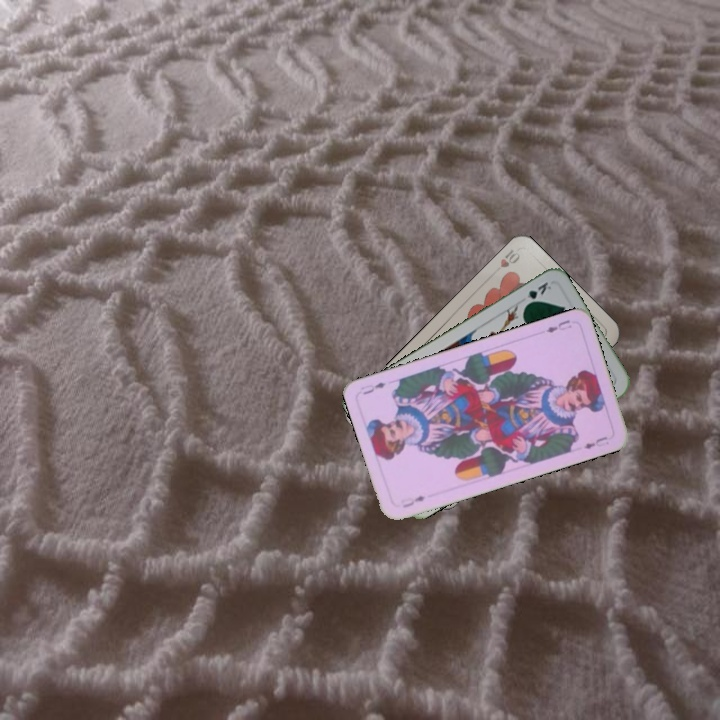EU: (542, 316, 574, 335), (396, 492, 428, 510)
GK: (520, 278, 554, 309)
H10: (488, 245, 523, 278)
